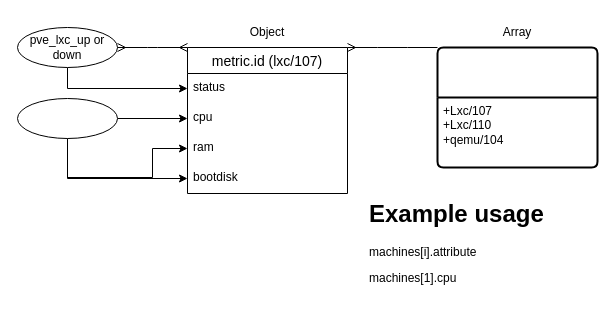
Some shapes in this 616 by 333 pixel diagram are drawn without their labels. Each missing label, with the box of its shape:
Machines: (436, 46, 598, 168)
queries: (16, 98, 118, 138)
